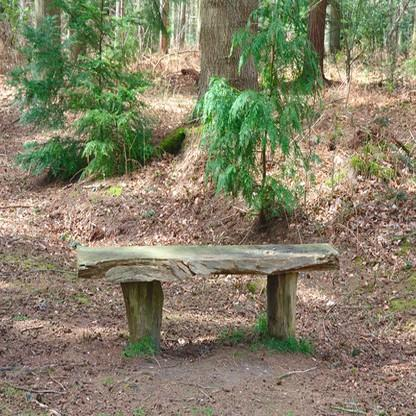obstacle: (71, 240, 342, 350)
